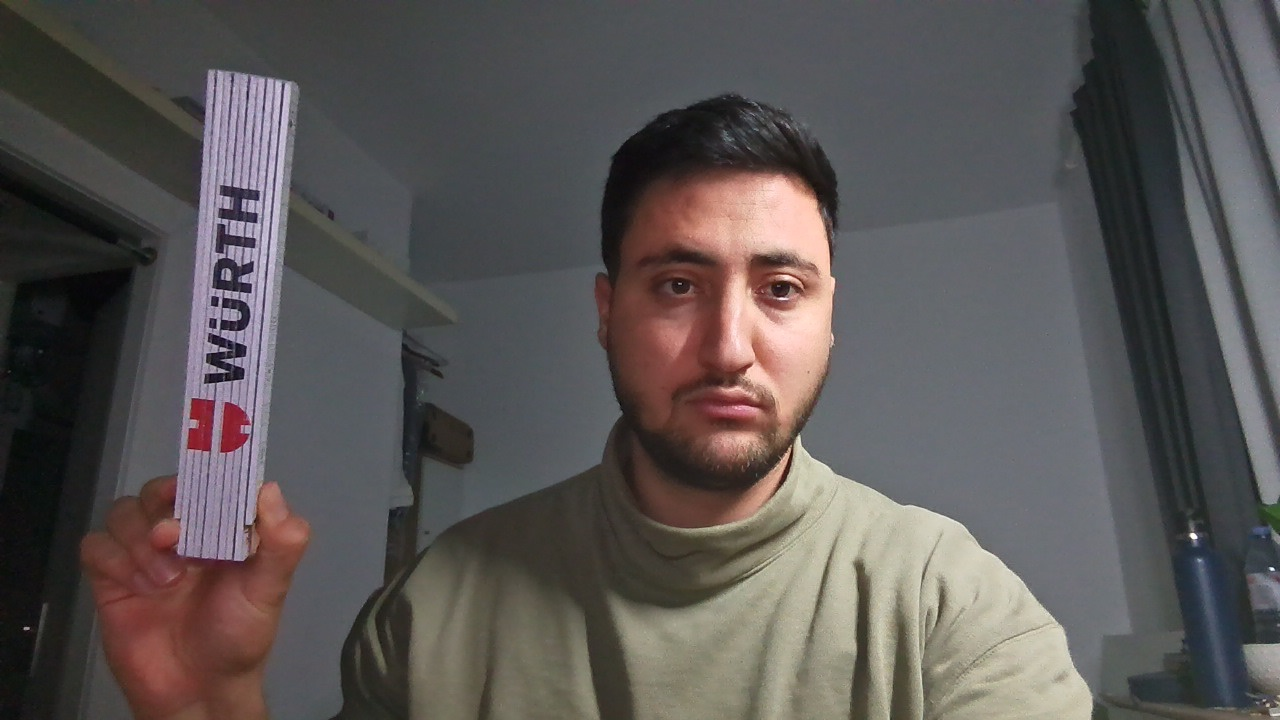Wasserflasche: (1143, 503, 1270, 720)
Zollstock: (158, 63, 293, 582)
me: (577, 84, 852, 526)
